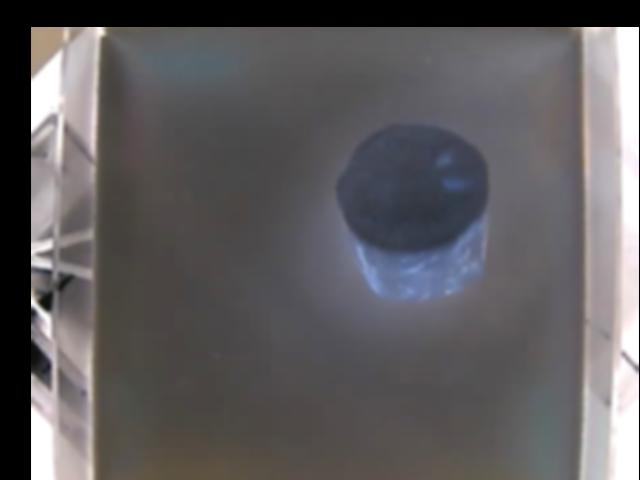Mooli: (335, 120, 490, 301)
